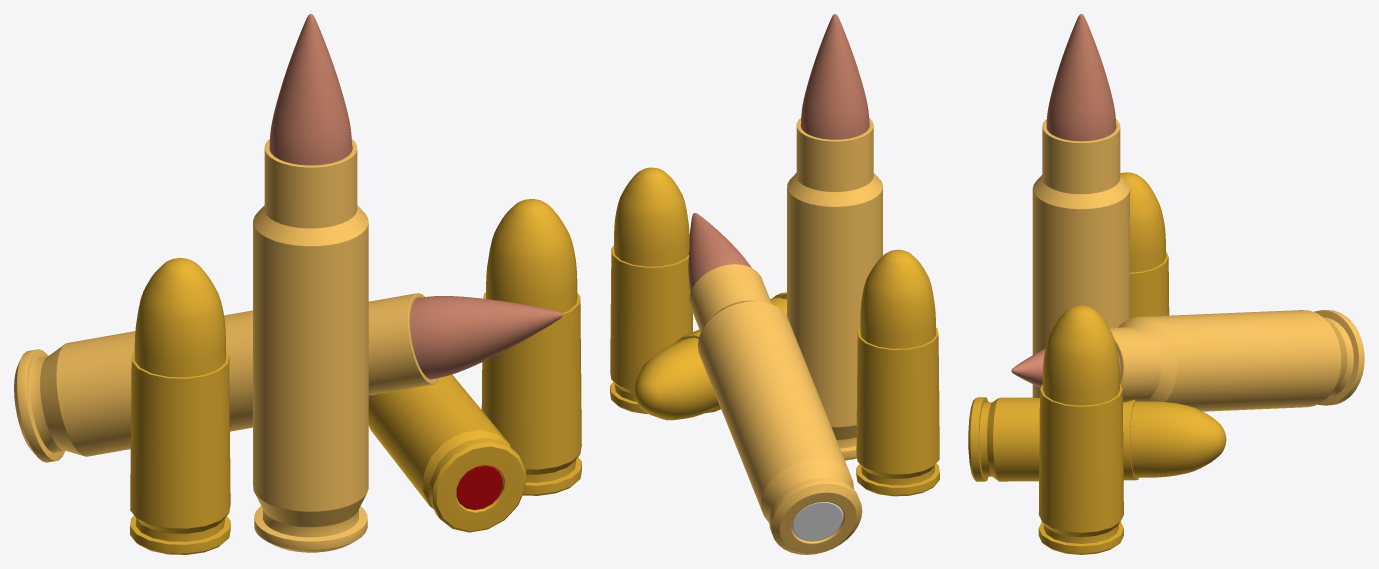
File: ammo.fbx
3 views of the same model, side by side, from view 1: azimuth 30°, elevation 25°; view 2: azimuth 150°, elevation 25°; view 3: azimuth 270°, elevation 25° (orthographic). The views are drawn at different scales.
Visible parts, largest first — view 1: 5.7x28mm, 5.7x28mm.001, Casing.002, Casing, Casing.001; view 2: 5.7x28mm.001, 5.7x28mm, Casing.002, Casing, Casing.001; view 3: 5.7x28mm, 5.7x28mm.001, Casing, Casing.001, Casing.002.
Boxes of the visible parts, bbox=[...] form: 5.7x28mm: bbox=[253, 14, 368, 552]; 5.7x28mm.001: bbox=[14, 293, 562, 462]; Casing.002: bbox=[130, 258, 230, 554]; Casing: bbox=[481, 199, 581, 495]; Casing.001: bbox=[368, 374, 525, 532]; 5.7x28mm.001: bbox=[688, 213, 862, 554]; 5.7x28mm: bbox=[787, 14, 882, 460]; Casing.002: bbox=[856, 249, 939, 496]; Casing: bbox=[610, 167, 692, 413]; Casing.001: bbox=[634, 292, 786, 420]; 5.7x28mm: bbox=[1032, 14, 1129, 397]; 5.7x28mm.001: bbox=[1011, 310, 1364, 411]; Casing: bbox=[1038, 305, 1123, 554]; Casing.001: bbox=[968, 397, 1226, 481]; Casing.002: bbox=[1120, 172, 1169, 318].
Size of the model in its own units: 33.74 by 39.28 by 32.35.
